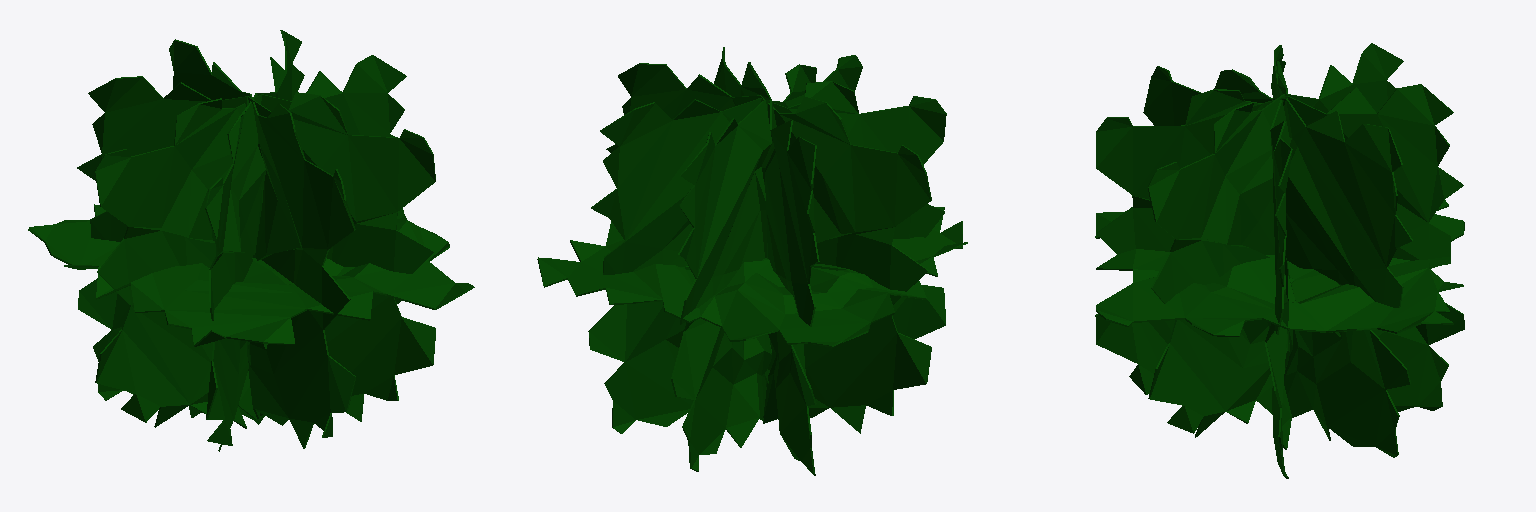
File: krzak.obj
3 views of the same model, side by side, from view 1: azimuth 30°, elevation 25°; view 2: azimuth 150°, elevation 25°; view 3: azimuth 270°, elevation 25° (orthographic).
Visible parts, largest first — view 1: Plane.003, Plane, Plane.001, Plane.004, Plane.002; view 2: Plane.002, Plane, Plane.001, Plane.004, Plane.003; view 3: Plane.002, Plane.003, Plane.001, Plane.004, Plane.
Part boxes in pixels (bbox=[...]): Plane.003: bbox=[77, 76, 435, 421]; Plane: bbox=[95, 55, 406, 427]; Plane.001: bbox=[169, 39, 355, 448]; Plane.004: bbox=[28, 204, 474, 346]; Plane.002: bbox=[205, 30, 304, 451]; Plane.002: bbox=[588, 81, 946, 433]; Plane: bbox=[606, 63, 931, 433]; Plane.001: bbox=[671, 55, 862, 471]; Plane.004: bbox=[537, 207, 967, 347]; Plane.003: bbox=[714, 47, 819, 475]; Plane.002: bbox=[1143, 66, 1412, 457]; Plane.003: bbox=[1148, 43, 1403, 437]; Plane.001: bbox=[1095, 84, 1464, 411]; Plane.004: bbox=[1095, 195, 1464, 336]; Plane: bbox=[1265, 45, 1293, 478].
Size of the model in its own units: 2 by 2 by 2.